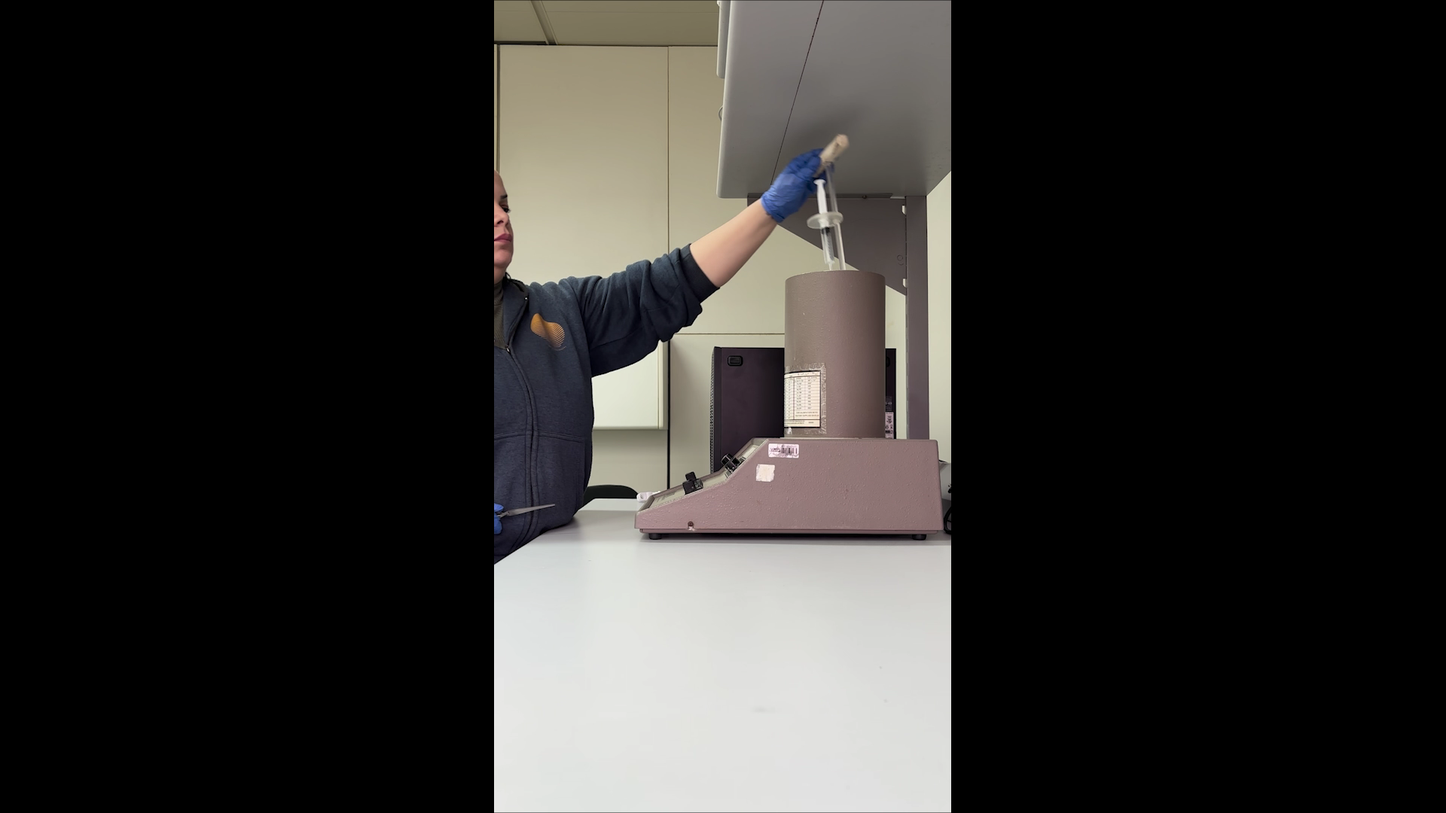Amostra: (813, 180, 836, 272)
Ativimetro: (782, 268, 887, 437)
Com_Luva: (763, 146, 837, 226)
